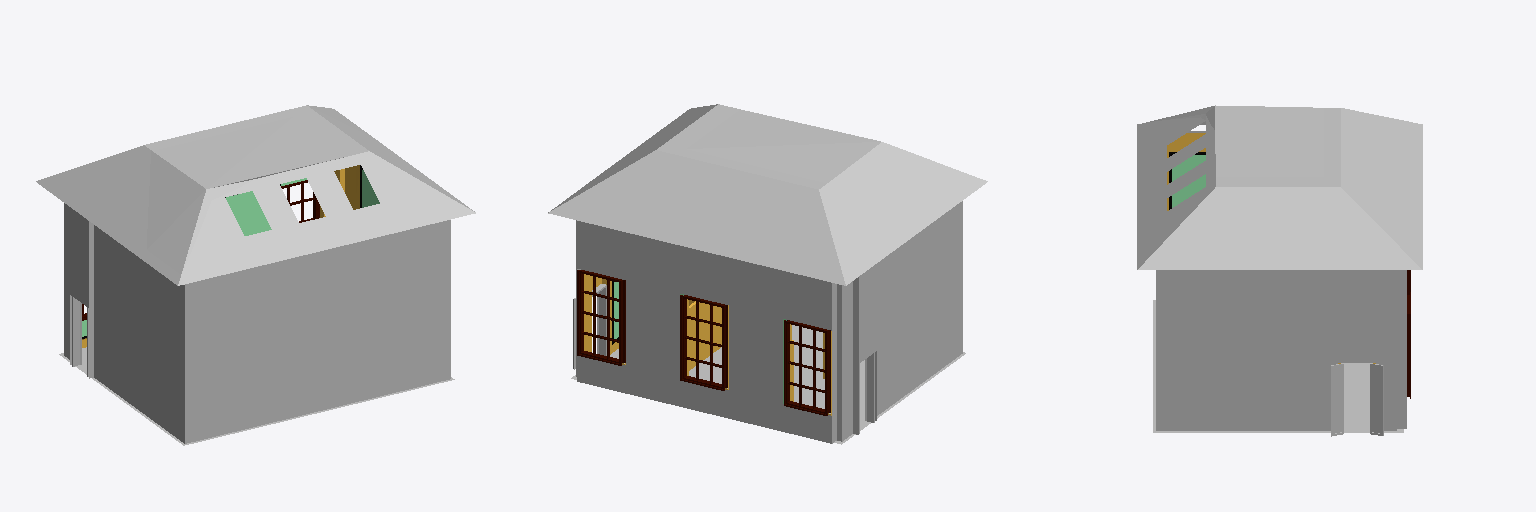
Rendered from room.obj.
The picture shows the model from 3 angles: view 1: azimuth 30°, elevation 25°; view 2: azimuth 150°, elevation 25°; view 3: azimuth 270°, elevation 25°; orthographic projection.
Visible parts, largest first — view 1: Wall_Outside_11, roof_out_2, roof_1, Wall_Inside_10, Floor_5, Door_I_n; view 2: Wall_Outside_11, roof_out_2, roof_1, Floor_5, Window1_W1, Window2_W2, Window3_W3, Wall_Inside_10, partition_3_8, Door_o_ut, Door_I_n; view 3: Wall_Outside_11, roof_out_2, roof_1, Floor_5, Door_o_ut, Wall_Inside_10.
Part boxes in pixels (x1,y1,x2,y2): Wall_Outside_11: (64, 203, 450, 443); roof_out_2: (36, 105, 475, 285); roof_1: (39, 117, 475, 285); Wall_Inside_10: (82, 165, 379, 347); Floor_5: (59, 347, 454, 445); Door_I_n: (72, 296, 88, 376); Wall_Outside_11: (576, 201, 962, 443); roof_out_2: (548, 104, 987, 285); roof_1: (548, 109, 984, 285); Floor_5: (571, 325, 965, 444); Window1_W1: (577, 270, 625, 365); Window2_W2: (680, 295, 727, 390); Window3_W3: (784, 320, 830, 415); Wall_Inside_10: (584, 274, 831, 415); partition_3_8: (689, 301, 721, 370); Door_o_ut: (573, 284, 606, 369); Door_I_n: (859, 353, 874, 433); Wall_Outside_11: (1156, 131, 1406, 430); roof_out_2: (1137, 108, 1422, 269); roof_1: (1150, 105, 1323, 197); Floor_5: (1153, 300, 1403, 432); Door_o_ut: (1331, 363, 1383, 436); Wall_Inside_10: (1167, 133, 1375, 363).
Bounding box in the file's own units: 1100 × 778 × 910.